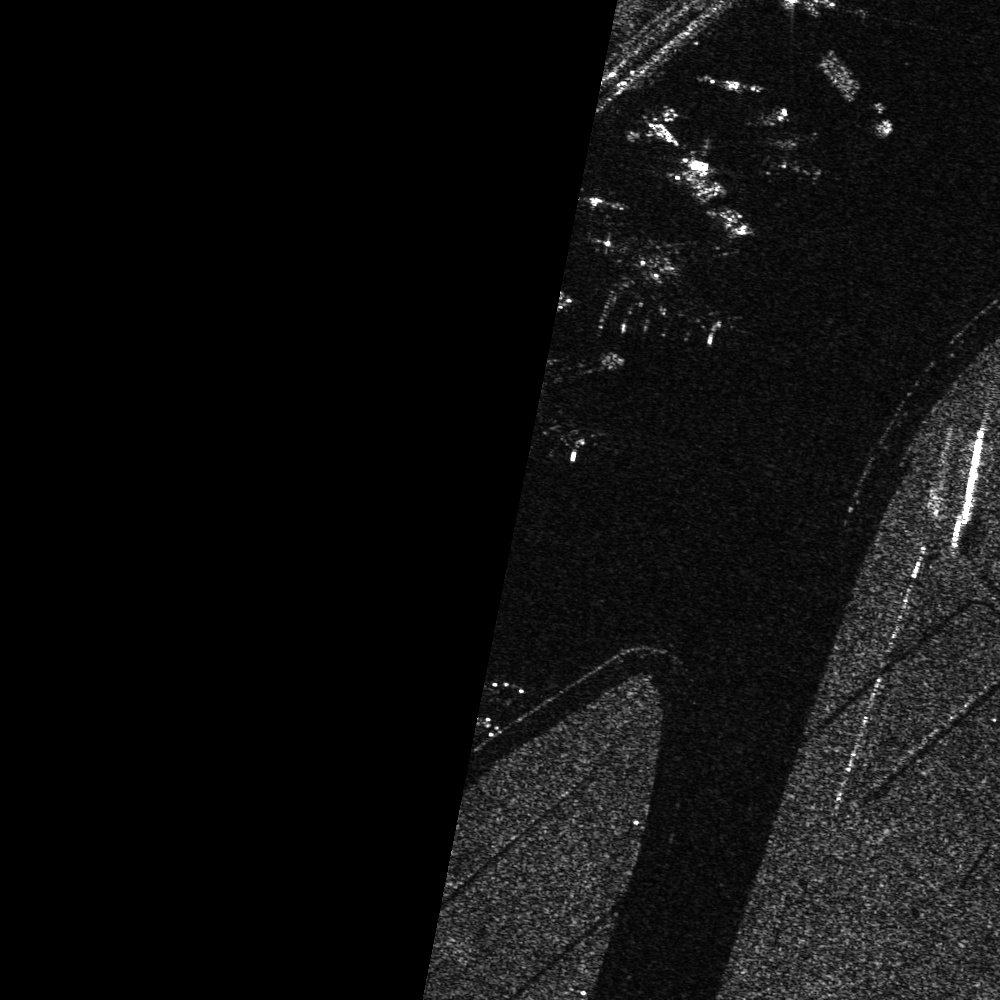Boeing787: (587, 217, 746, 355)
other: (747, 97, 834, 186)
